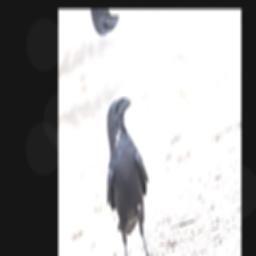Crow: (94, 87, 161, 256)
